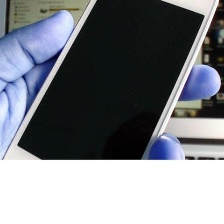phone: (0, 0, 221, 197)
